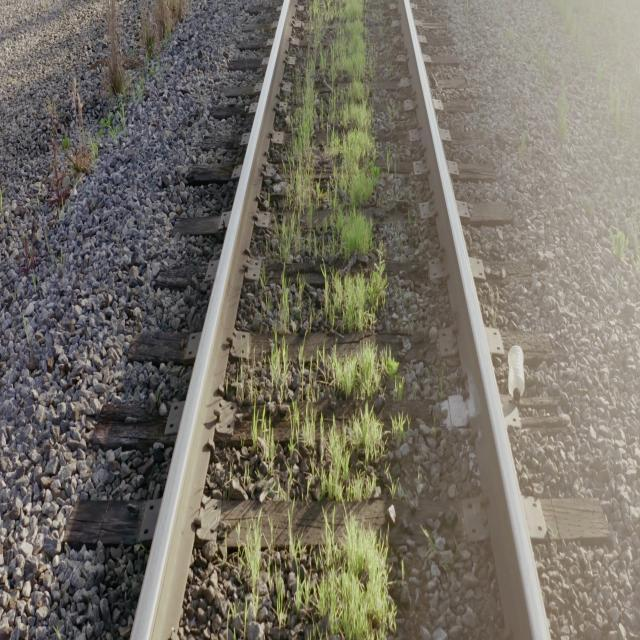Plant: (280, 0, 378, 262), (289, 340, 399, 502), (274, 516, 395, 638), (322, 256, 388, 333), (242, 524, 261, 638), (255, 411, 280, 480), (270, 338, 289, 391), (280, 280, 289, 333), (392, 418, 400, 440)
